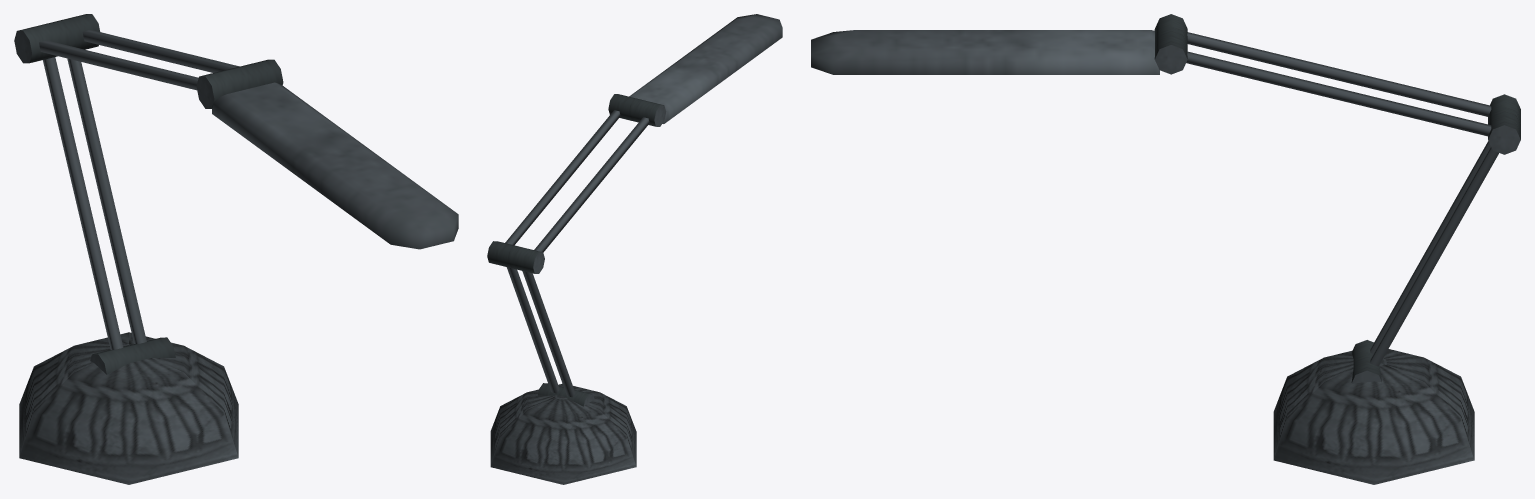
Rendered from desk_lamp_01.fbx.
The picture shows the model from 3 angles, left to right: view 1: azimuth 30°, elevation 25°; view 2: azimuth 150°, elevation 25°; view 3: azimuth 270°, elevation 25°; orthographic projection. The views are drawn at different scales.
Parts seen in each view (by area): view 1: desk_lamp_01; view 2: desk_lamp_01; view 3: desk_lamp_01.
Part boxes in pixels (x1=…): desk_lamp_01: x1=14, y1=14, x2=458, y2=484; desk_lamp_01: x1=487, y1=14, x2=782, y2=484; desk_lamp_01: x1=811, y1=14, x2=1520, y2=484.
Bounding box in the file's own units: 18.48 × 35.77 × 56.6.
